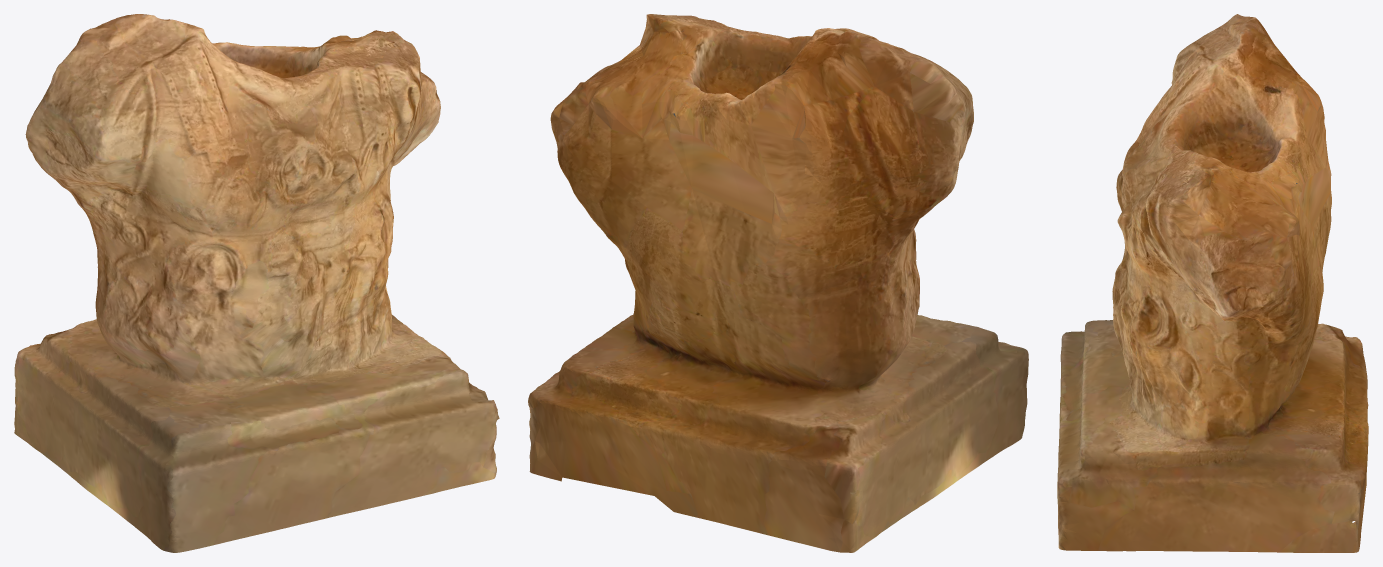
The model's file is decorated-bust-fragment-roman-villas-of.glb.
The picture shows the model from 3 angles, left to right: view 1: azimuth 30°, elevation 25°; view 2: azimuth 150°, elevation 25°; view 3: azimuth 270°, elevation 25°; orthographic projection. The views are drawn at different scales.
Visible parts, largest first — view 1: Object_2; view 2: Object_2; view 3: Object_2.
Part boxes in pixels (<box>): Object_2: <box>14,14,499,552</box>; Object_2: <box>528,14,1028,552</box>; Object_2: <box>1057,14,1368,552</box>.
Size of the model in its own units: 0.6665 by 0.7247 by 0.502.
Materials: 1 (1 with a texture image).
